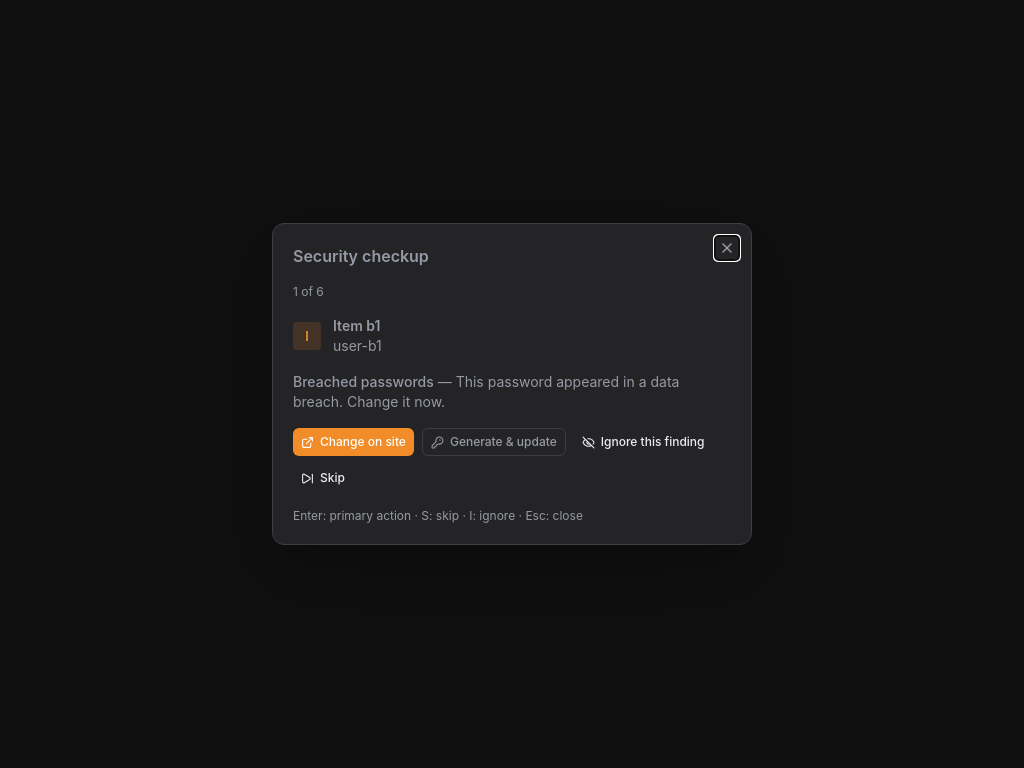
Test: SecurityCheckup modal › Change on site opens the change-password page and advances
Expected: the element with test id "checkup-step" is shown, [293,284,731,524]
Step 1. Click the button with test id "checkup-change-on-site" → coordinates (353, 442), box [293,428,414,456]
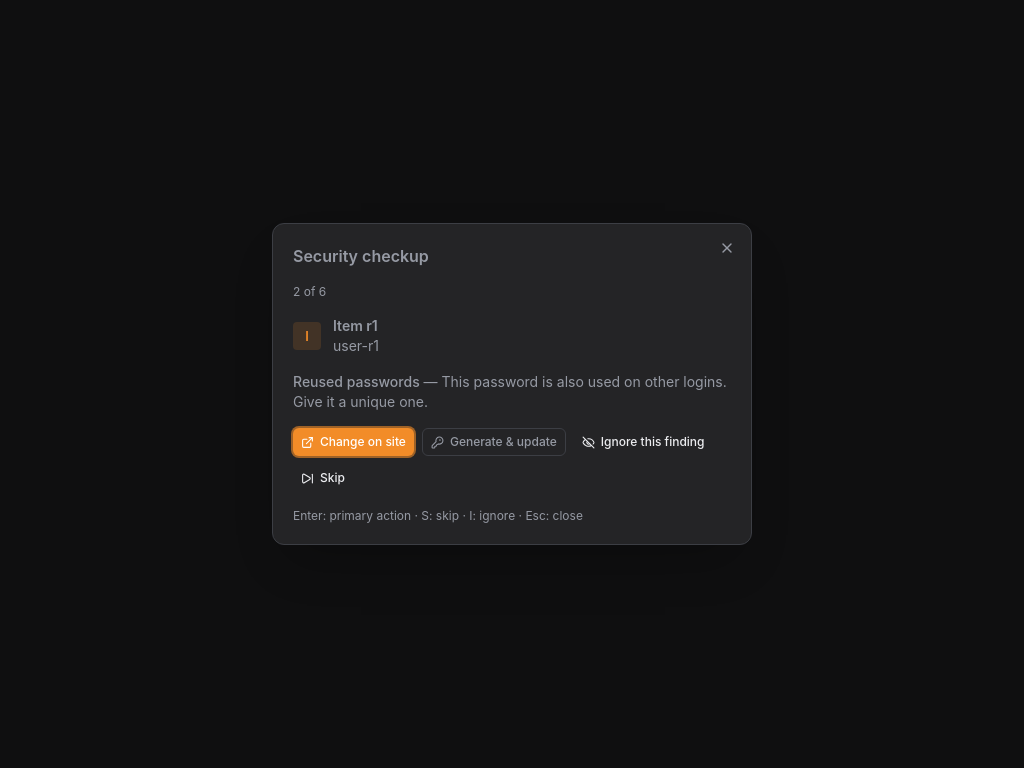
Now the text with test id "checkup-progress" reads "2 of 6", box [293,284,326,299]
